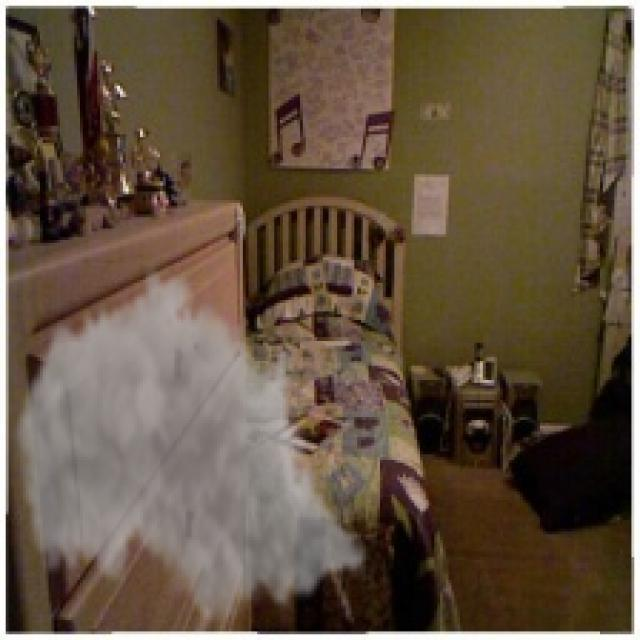Smoke: (11, 260, 372, 634)
